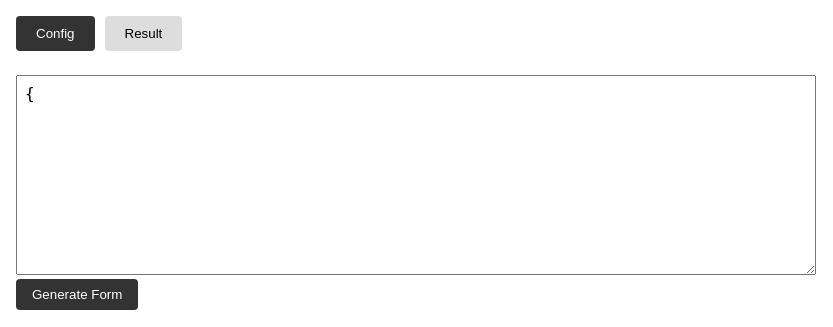
Scenario: App component › switches to Result tab
This screenshot has width=833, height=327.
Click the button "Result" at coordinates (143, 34), box [104,16,182,51]
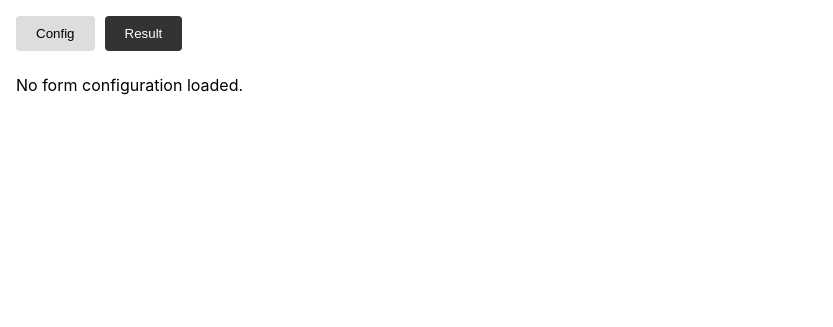
Result: the text "No form configuration loaded." is shown at [16,75,243,95]
